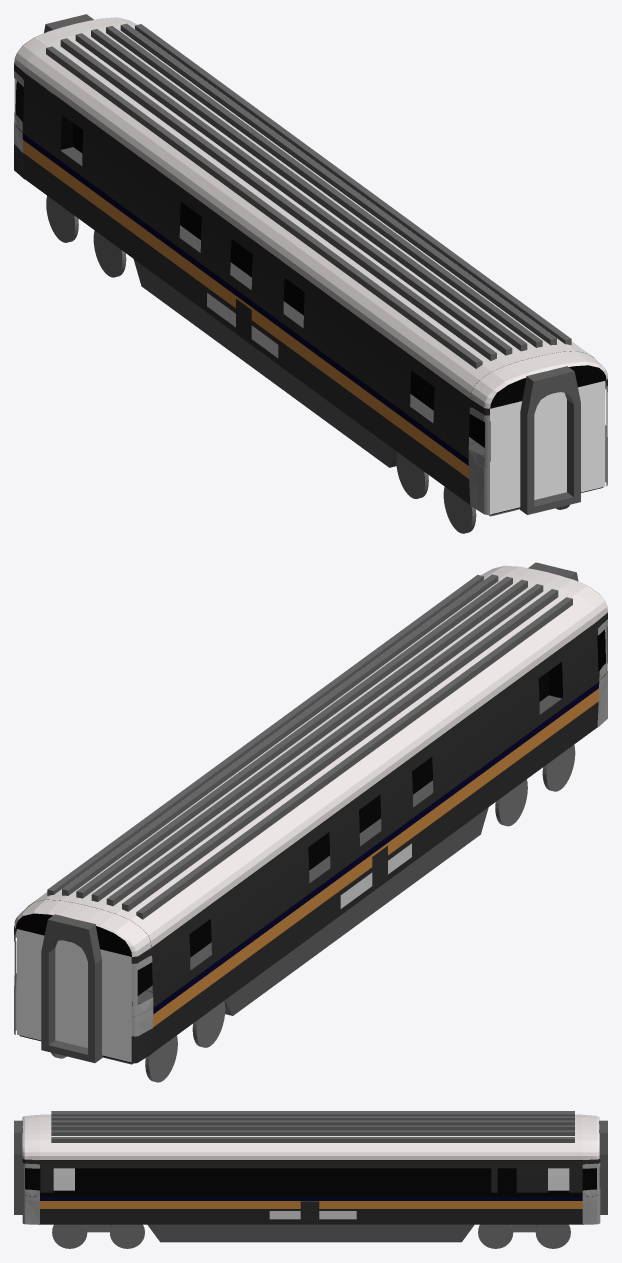
File: br-mk3-sle-gc2.dae
The picture shows the model from 3 angles, top to bottom: view 1: azimuth 30°, elevation 25°; view 2: azimuth 150°, elevation 25°; view 3: azimuth 270°, elevation 25°; orthographic projection. The views are drawn at different scales.
Parts seen in each view (by area): view 1: Suzanne_001, Plane_007, Plane_001, Cube_010, Cube, Cube_011, Cube_008, Cube_009, Cube_004, Cube_002, Tube_003, Plane_044 (+20 smaller); view 2: Suzanne_001, Plane_007, Plane_100, Cube, Cube_010, Cube_011, Cube_008, Cube_009, Cube_004, Cube_002, Tube_002, Plane_044 (+20 smaller); view 3: Plane_041, Plane_134, Suzanne_001, Cube, Cube_002, Cube_003, Cube_004, Cube_008, Plane_135, Plane_136, Cube_009, Cube_010 (+21 smaller).
Boxes of the visible parts, <box> form: Suzanne_001: <box>24,24,593,398</box>; Plane_007: <box>23,140,470,504</box>; Plane_001: <box>490,381,605,514</box>; Cube_010: <box>60,38,496,360</box>; Cube: <box>133,259,396,467</box>; Cube_011: <box>46,46,482,368</box>; Cube_008: <box>91,29,527,351</box>; Cube_009: <box>75,33,512,355</box>; Cube_004: <box>106,26,542,347</box>; Cube_002: <box>120,23,556,345</box>; Tube_003: <box>520,366,580,514</box>; Plane_044: <box>22,123,468,459</box>; Suzanne_001: <box>28,573,596,947</box>; Plane_007: <box>151,688,598,1053</box>; Plane_100: <box>17,929,132,1062</box>; Cube: <box>224,807,488,1015</box>; Cube_010: <box>122,589,558,911</box>; Cube_011: <box>136,597,572,919</box>; Cube_008: <box>91,579,527,901</box>; Cube_009: <box>106,584,543,906</box>; Cube_004: <box>76,576,512,898</box>; Cube_002: <box>62,574,498,895</box>; Tube_002: <box>41,914,102,1062</box>; Plane_044: <box>153,671,599,1007</box>; Plane_041: <box>25,1159,596,1196</box>; Plane_134: <box>40,1201,582,1224</box>; Suzanne_001: <box>40,1114,582,1159</box>; Cube: <box>147,1224,474,1242</box>; Cube_002: <box>51,1130,574,1135</box>; Cube_003: <box>51,1137,574,1142</box>; Cube_004: <box>51,1125,574,1130</box>; Cube_008: <box>51,1120,574,1125</box>; Plane_135: <box>40,1160,582,1164</box>; Plane_136: <box>40,1164,582,1168</box>; Cube_009: <box>51,1116,574,1120</box>; Cube_010: <box>51,1112,574,1116</box>.
Bounding box in the file's own units: 2.14 × 13.39 × 2.81.
